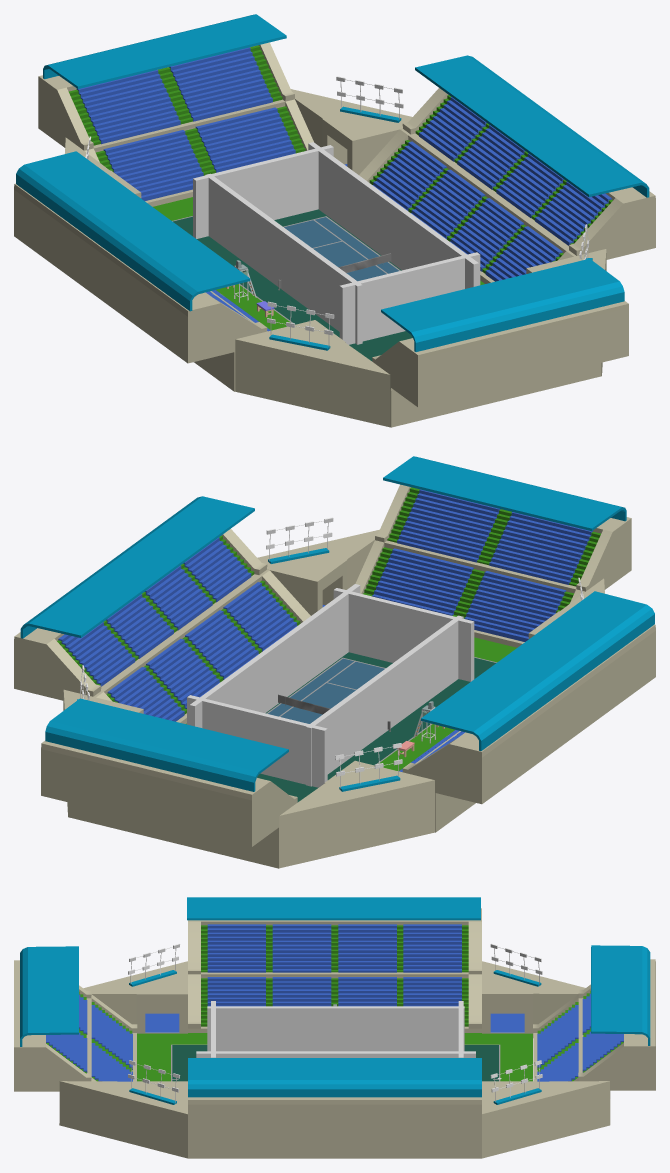
The model's file is tennis.glb.
The picture shows the model from 3 angles, top to bottom: view 1: azimuth 30°, elevation 25°; view 2: azimuth 150°, elevation 25°; view 3: azimuth 270°, elevation 25°; orthographic projection. The views are drawn at different scales.
Visible parts, largest first — view 1: Box012.002, Box008.001, Box010.001, Box015.001, Box011, Box012.001, coteG, coteR, Box014.001, Tenis_KORT_001.001, finJ1, finJ2 (+25 smaller); view 2: Box012.002, Box003.001, Box010.001, Box014.001, Box009, Box012.001, coteG, coteR, Box015.001, Tenis_KORT_001.001, finJ2, finJ1 (+24 smaller); view 3: Box005.001, Box012.001, coteG, Box007, Box006, Box012.002, Box014.001, Box015.001, Box005, Box009, Box011, Box001 (+26 smaller).
Boxes of the visible parts, box(x1,y1,x2,y2) form: Box012.002: box(16, 151, 250, 311); Box008.001: box(372, 301, 628, 407); Box010.001: box(14, 183, 267, 363); Box015.001: box(381, 258, 624, 351); Box011: box(235, 320, 391, 427); Box012.001: box(415, 55, 649, 197); coteG: box(205, 173, 362, 344); coteR: box(308, 142, 478, 288); Box014.001: box(43, 14, 286, 88); Tenis_KORT_001.001: box(172, 209, 412, 361); finJ1: box(193, 145, 333, 238); finJ2: box(339, 252, 480, 344); Box012.002: box(420, 591, 654, 750); Box003.001: box(41, 741, 297, 846); Box010.001: box(402, 624, 655, 804); Box014.001: box(45, 698, 288, 791); Box009: box(279, 760, 434, 868); Box012.001: box(20, 496, 254, 638); coteG: box(306, 615, 463, 786); coteR: box(189, 584, 360, 727); Box015.001: box(383, 456, 626, 531); Tenis_KORT_001.001: box(257, 652, 496, 802); finJ2: box(333, 588, 474, 681); finJ1: box(187, 695, 327, 787); Box005.001: box(188, 1097, 481, 1144); Box012.001: box(188, 1058, 481, 1097); coteG: box(207, 1006, 464, 1051); Box007: box(59, 1081, 187, 1158); Box006: box(482, 1081, 610, 1158); Box012.002: box(187, 897, 480, 920); Box014.001: box(591, 945, 650, 1045); Box015.001: box(20, 946, 78, 1046); Box005: box(188, 1144, 481, 1158); Box009: box(482, 961, 585, 1037); Box011: box(83, 961, 187, 1033); Box001: box(137, 1033, 532, 1081).
Bounding box in the file's own units: 12.25 × 3.16 × 17.21.
